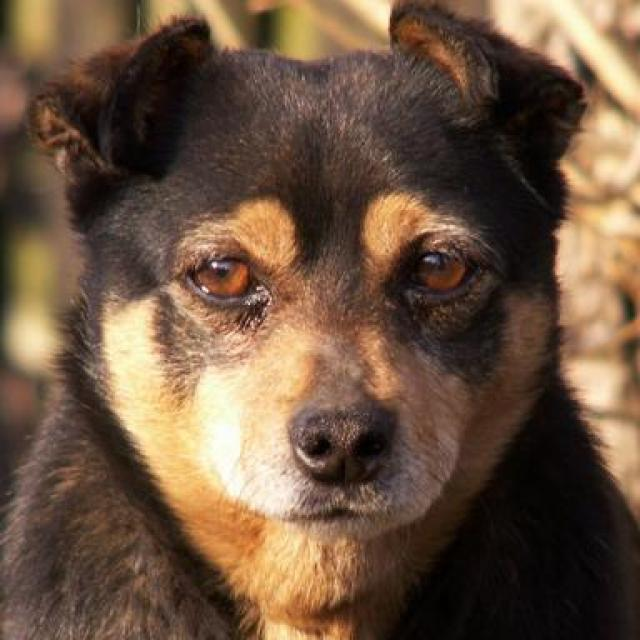sad: (38, 21, 596, 593)
